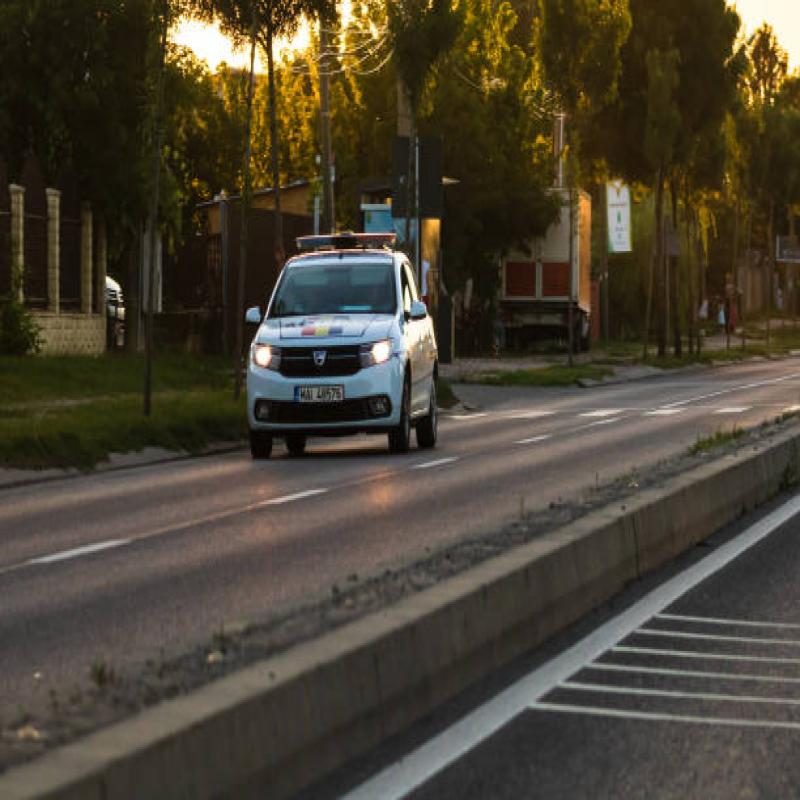AmbulanceSiren: (288, 210, 402, 256)
